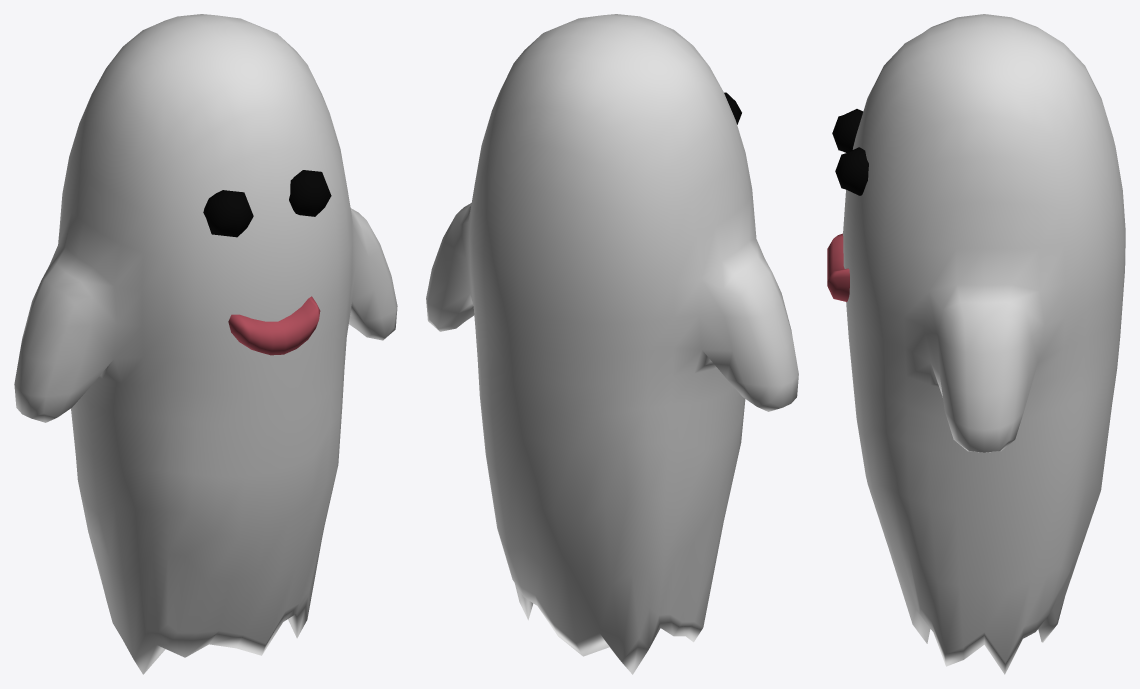
The model's file is SM_Ghost.fbx.
3 renders of one model, left to right at view 1: azimuth 30°, elevation 25°; view 2: azimuth 150°, elevation 25°; view 3: azimuth 270°, elevation 25°, orthographic. The views are drawn at different scales.
Parts seen in each view (by area): view 1: SM_Ghost; view 2: SM_Ghost; view 3: SM_Ghost.
Part boxes in pixels (x1,y1,x2,y2): SM_Ghost: [14, 14, 397, 674]; SM_Ghost: [426, 14, 798, 674]; SM_Ghost: [827, 14, 1125, 674].
Bounding box in the file's own units: 93.69 × 153 × 66.43.
